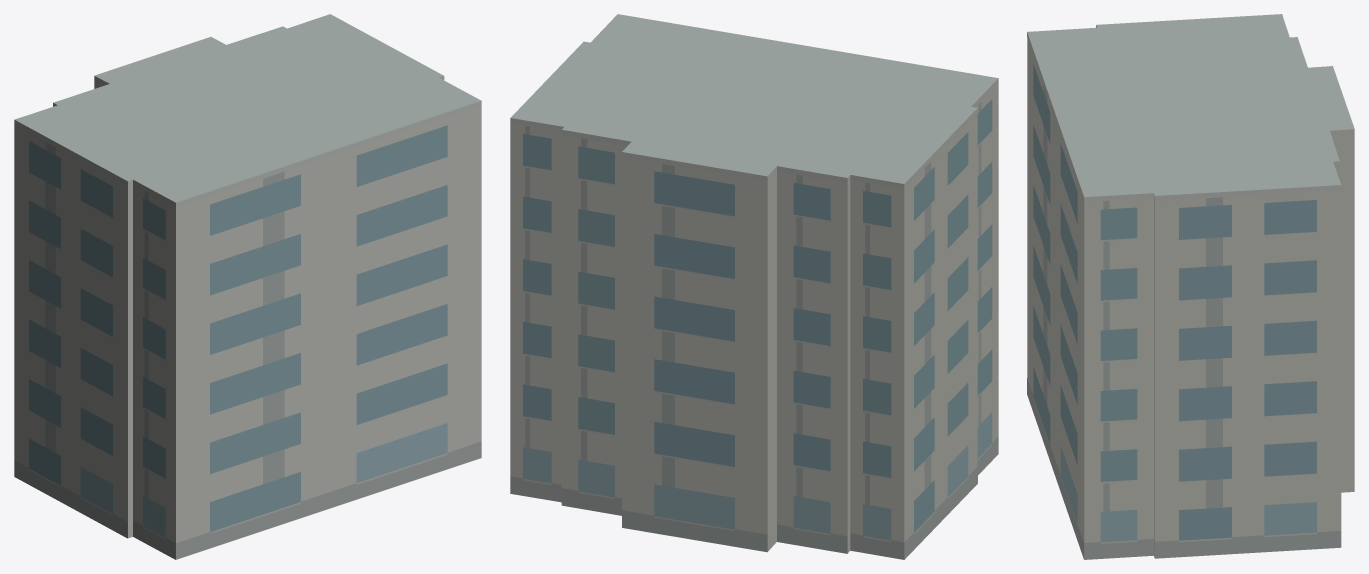
Rendered from survey-upis-33021513.glb.
3 views of the same model, side by side, from view 1: azimuth 30°, elevation 25°; view 2: azimuth 150°, elevation 25°; view 3: azimuth 270°, elevation 25° (orthographic). The views are drawn at different scales.
Visible parts, largest first — view 1: survey-upis-33021513.tmp; view 2: survey-upis-33021513.tmp; view 3: survey-upis-33021513.tmp.
Part boxes in pixels (x1,y1,x2,y2): survey-upis-33021513.tmp: (14, 14, 481, 559); survey-upis-33021513.tmp: (510, 14, 998, 559); survey-upis-33021513.tmp: (1027, 14, 1354, 559).
Bounding box in the file's own units: 18.65 × 17.2 × 14.1.
